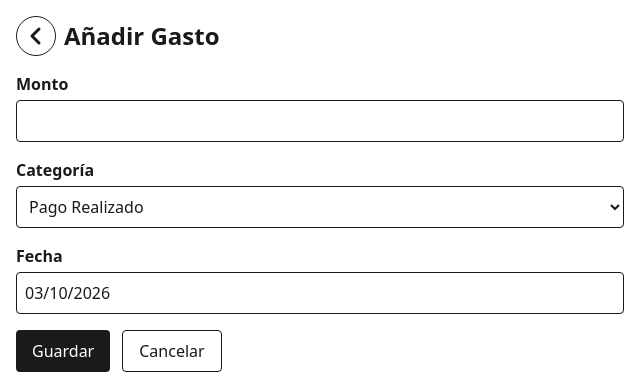
Test: FormularioMovimiento › campos › el campo de monto del formulario filtra lo que se escribe: "abc50" muestra "50" (AC-18)
In the field labelled "Monto": (320, 121) [16,100,624,142], type "abc50"
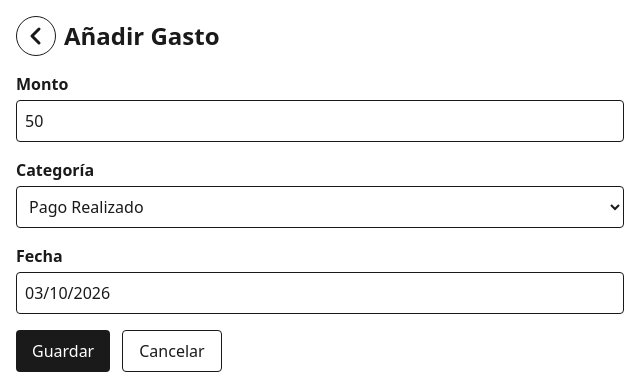
Expected: the field labelled "Monto" holds "50", [16,100,624,142]
